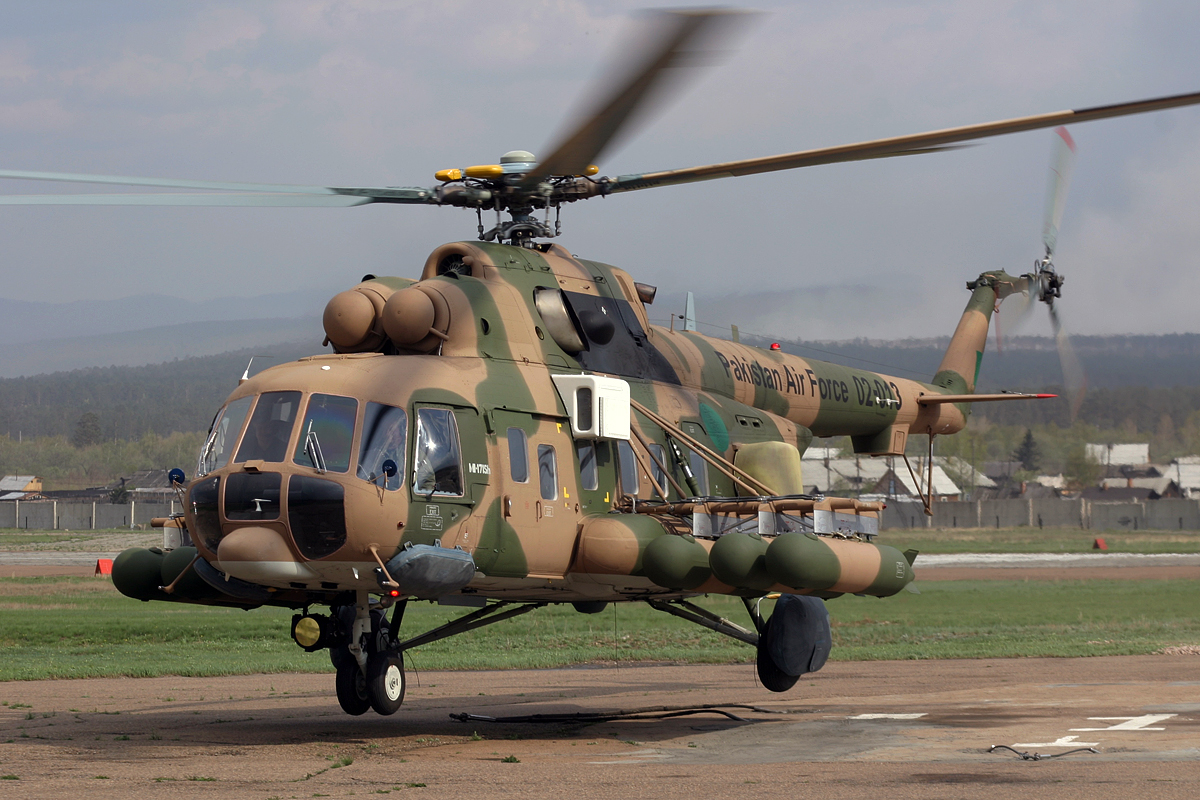number: (851, 373, 908, 413)
